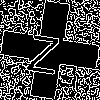Z: (25, 25, 63, 75)
